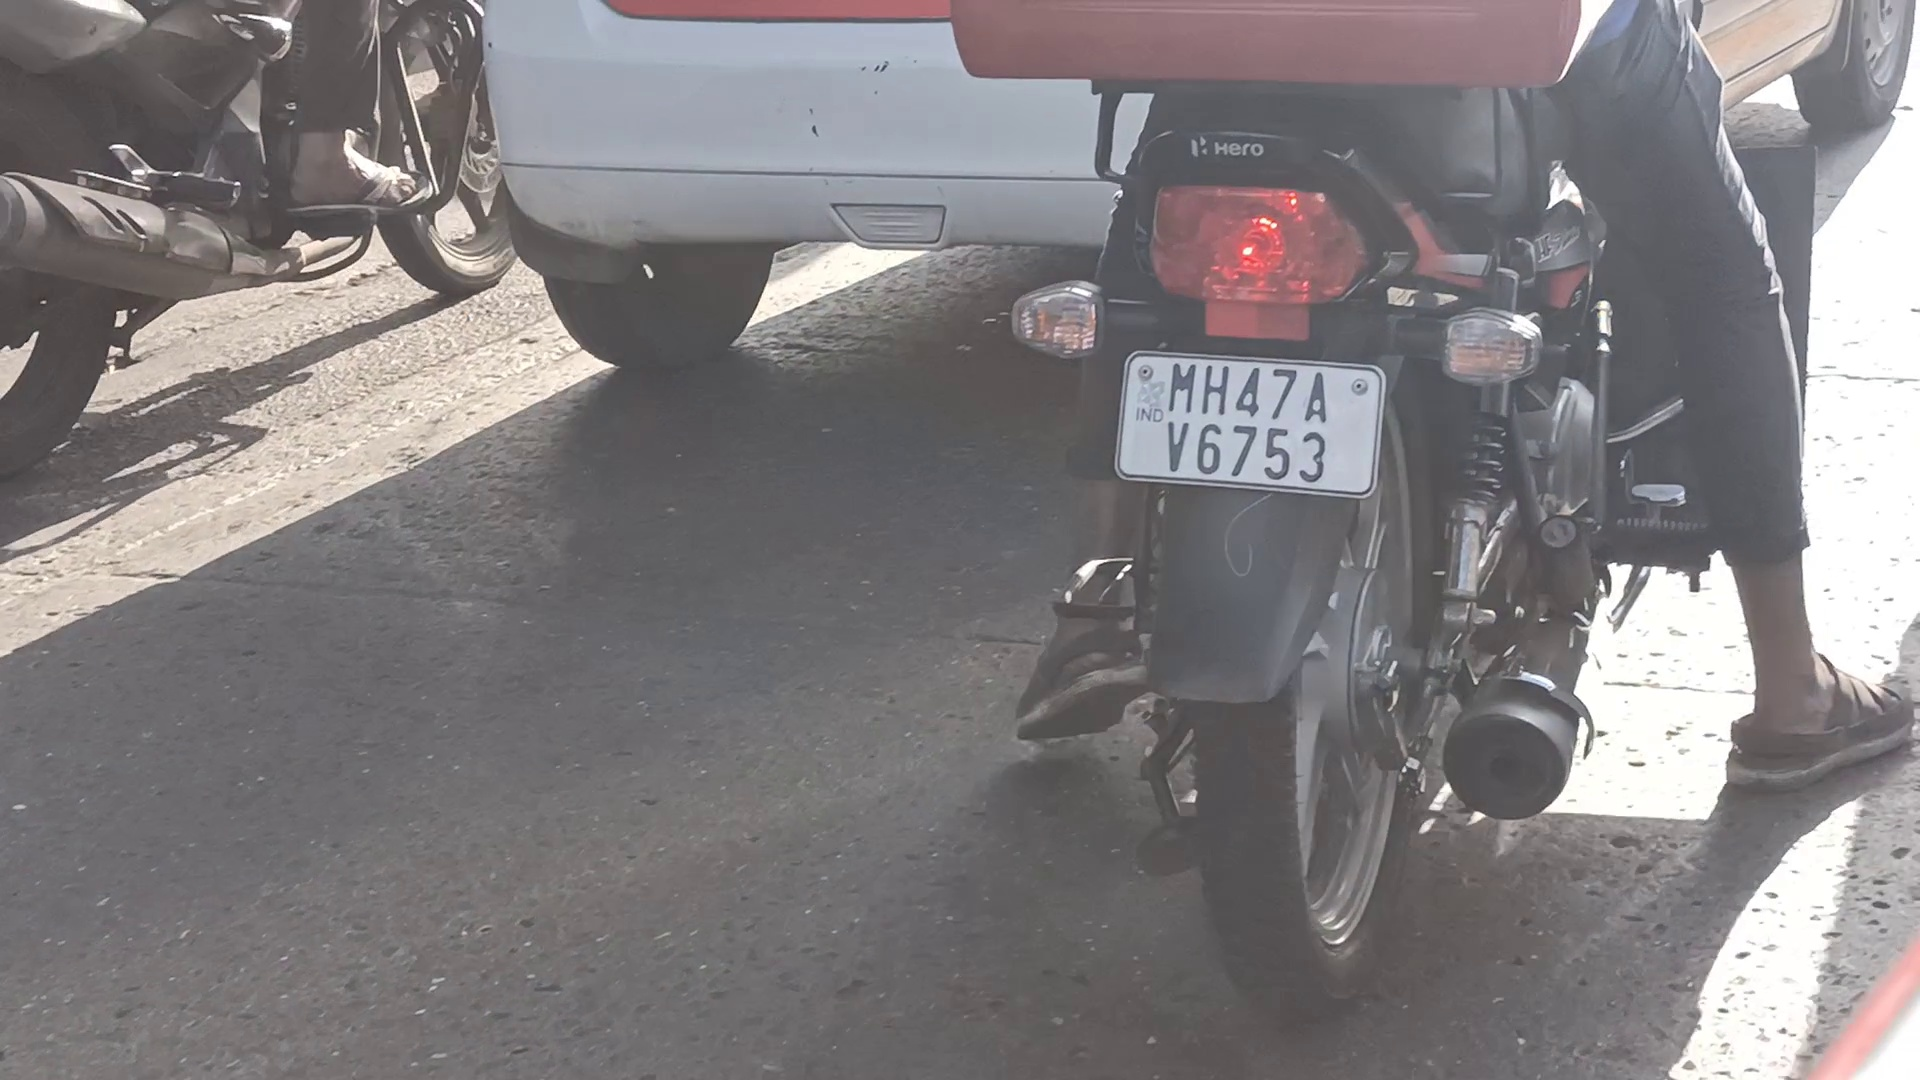MH47AV6753: (1118, 356, 1379, 496)
